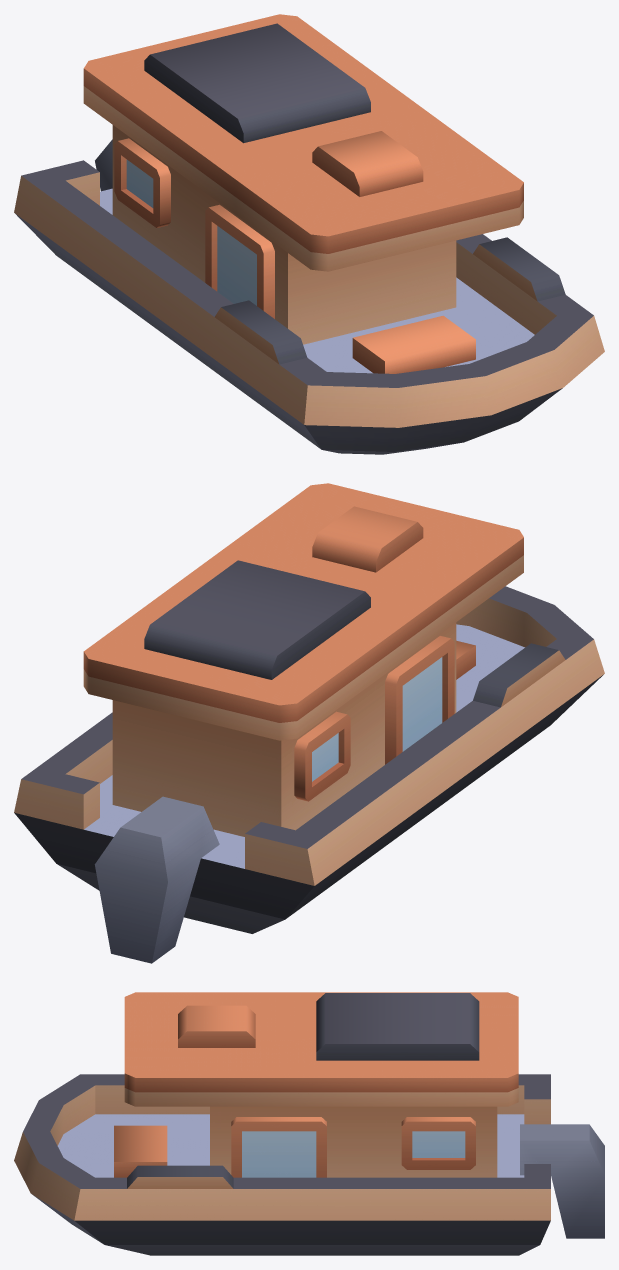
Rendered from boat-house-b-transformed.glb.
3 views of the same model, one above another, from view 1: azimuth 30°, elevation 25°; view 2: azimuth 150°, elevation 25°; view 3: azimuth 270°, elevation 25° (orthographic). The views are drawn at different scales.
Visible parts, largest first — view 1: boat-house-b; view 2: boat-house-b; view 3: boat-house-b.
Part boxes in pixels (x1,y1,x2,y2): boat-house-b: (14,14,604,454); boat-house-b: (14,483,604,963); boat-house-b: (14,992,604,1255).
Bounding box in the file's own units: 2.68 × 2.2 × 5.55.
1 material, 1 textured.
